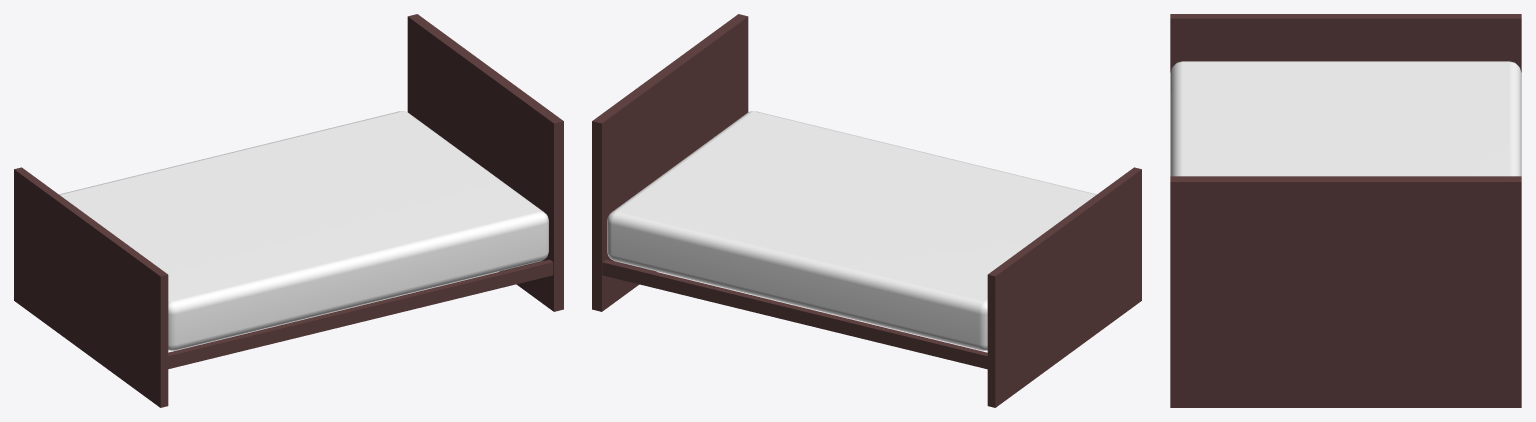
The model's file is bed3.obj.
3 views of the same model, side by side, from view 1: azimuth 30°, elevation 25°; view 2: azimuth 150°, elevation 25°; view 3: azimuth 270°, elevation 25° (orthographic). The views are drawn at different scales.
Visible parts, largest first — view 1: bed3; view 2: bed3; view 3: bed3.
Boxes of the visible parts, <box> form: bed3: <box>14,14,563,407</box>; bed3: <box>592,14,1141,407</box>; bed3: <box>1170,14,1521,407</box>.
Bounding box in the file's own units: 2.86 × 1.27 × 1.8.
